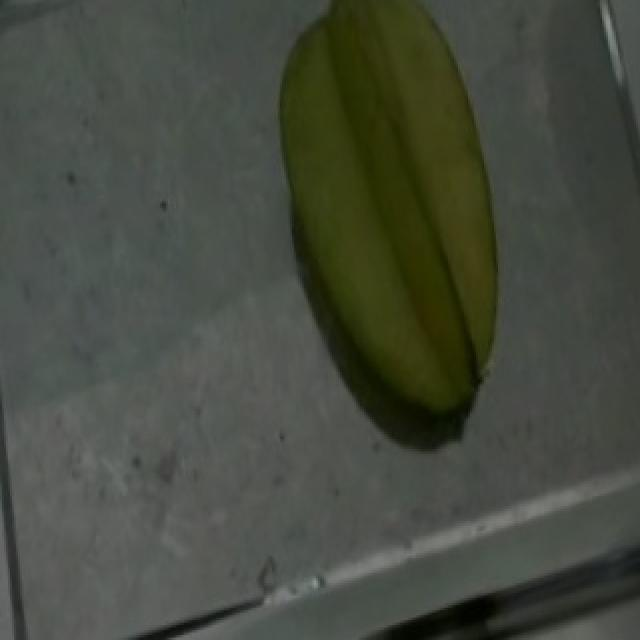fruit: (268, 5, 584, 387)
